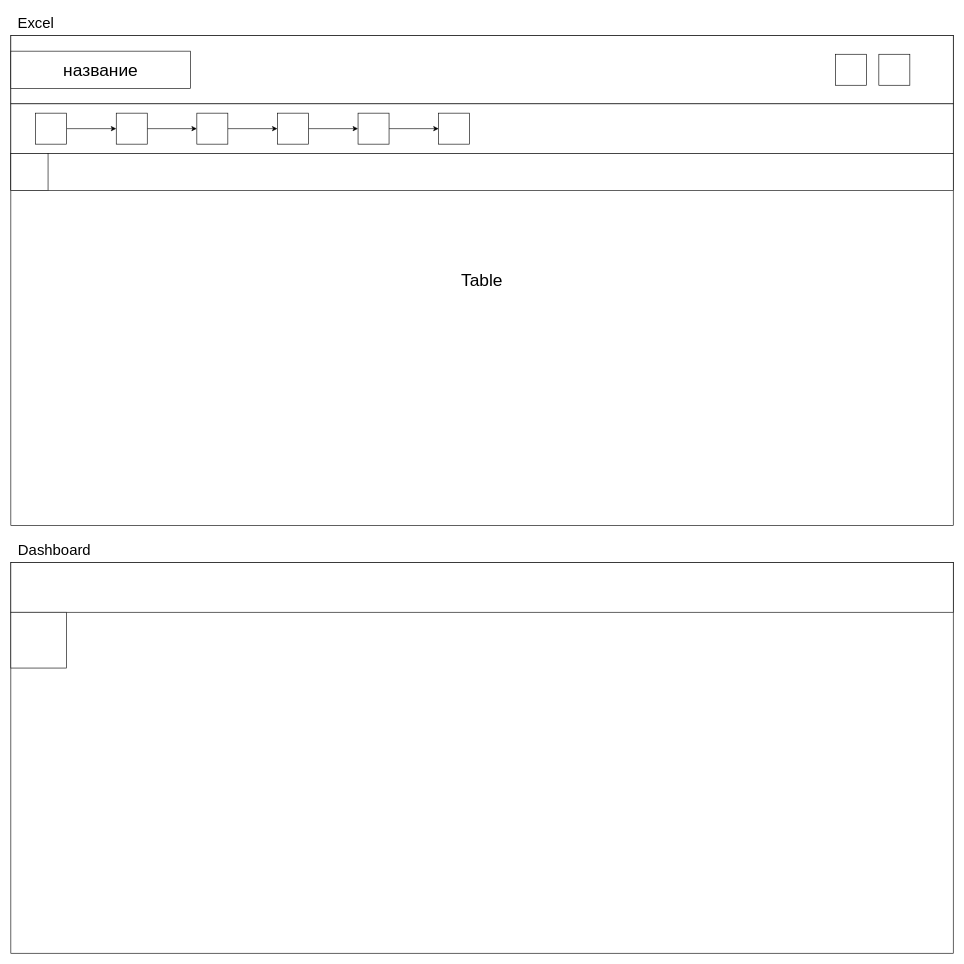
The diagram is 964 pixels wide and 964 high, and some of its shapes have lost their labels. The centre of each missing label's shape, as x and y in pixels:
"Excel Dashboard" goes at point 481,587.
"fx" goes at point 29,172.
